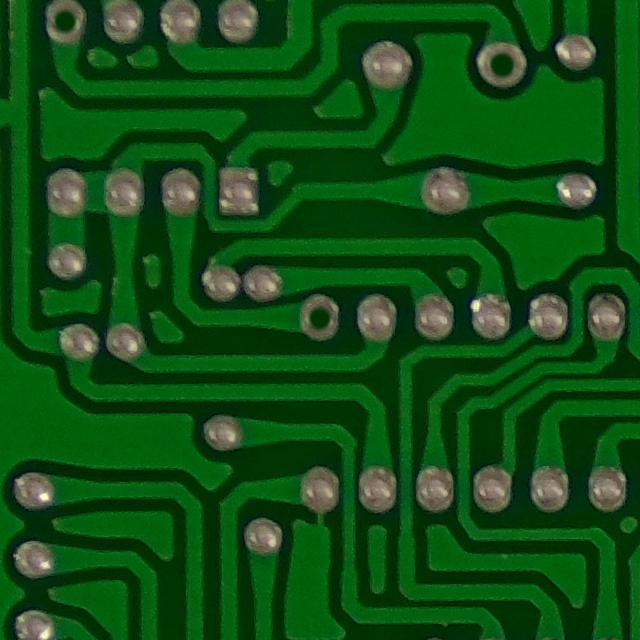missing_hole: (288, 284, 351, 351), (470, 33, 538, 95), (36, 0, 95, 51)
